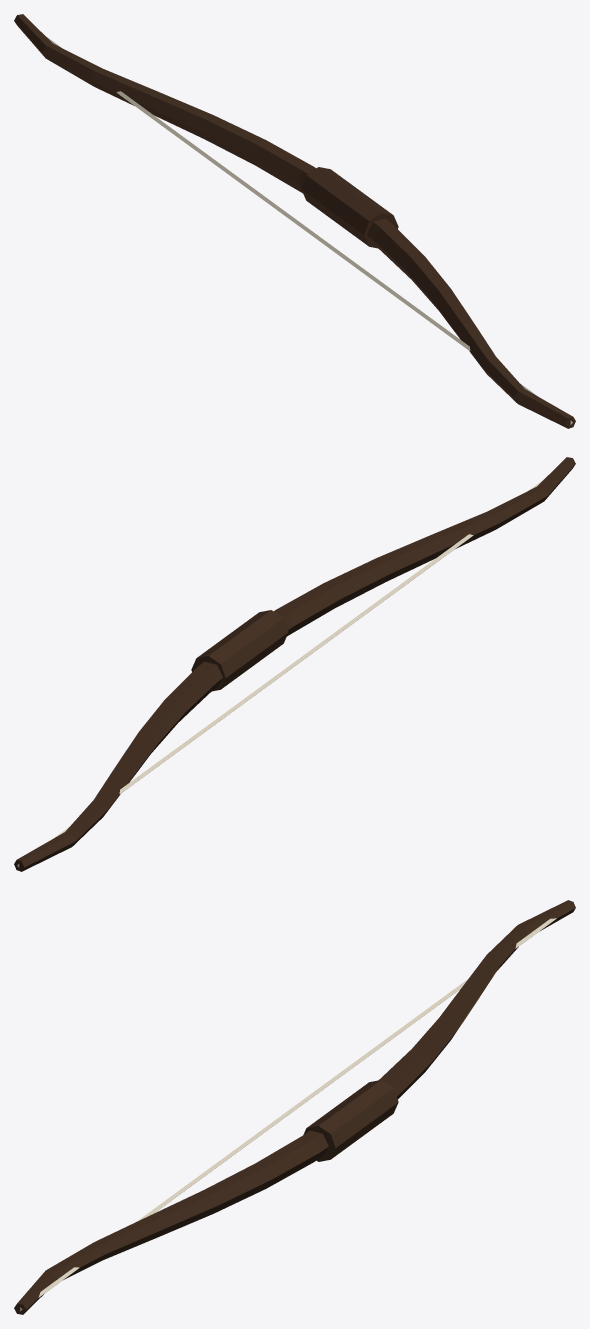
File: g-shortbow-recurve.glb
The picture shows the model from 3 angles, top to bottom: view 1: azimuth 30°, elevation 25°; view 2: azimuth 150°, elevation 25°; view 3: azimuth 330°, elevation 25°; orthographic projection.
Parts seen in each view (by area): view 1: g-shortbow-recurve; view 2: g-shortbow-recurve; view 3: g-shortbow-recurve.
Boxes of the visible parts, x1,y1,x2,y2 form: g-shortbow-recurve: [14, 14, 575, 428]; g-shortbow-recurve: [14, 457, 575, 871]; g-shortbow-recurve: [14, 900, 575, 1314].
Size of the model in its own units: 0.0981 by 0.038 by 1.05.
